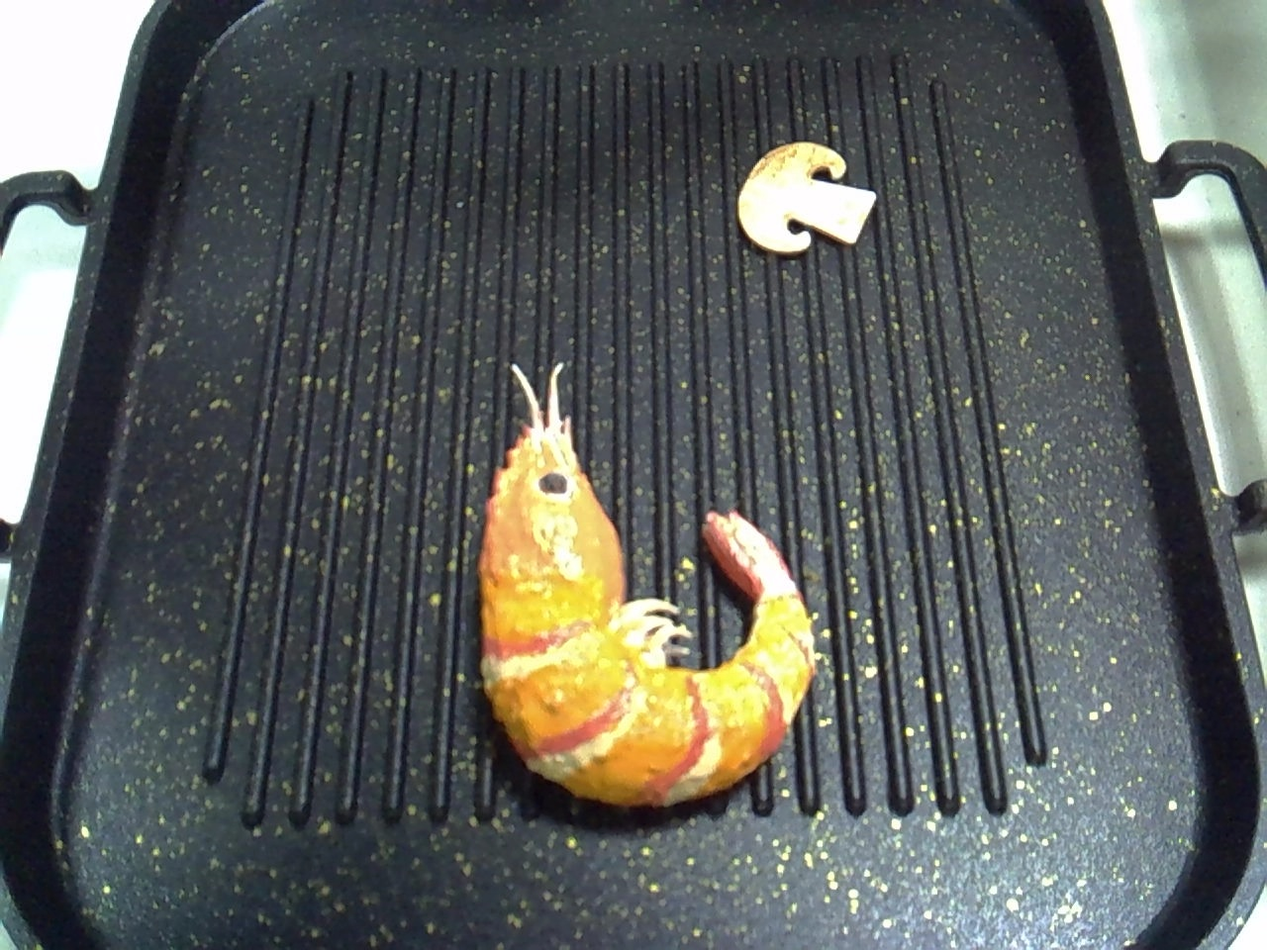mushroom_cooked: (723, 121, 884, 273)
shrimp_cooked: (465, 339, 819, 826)
